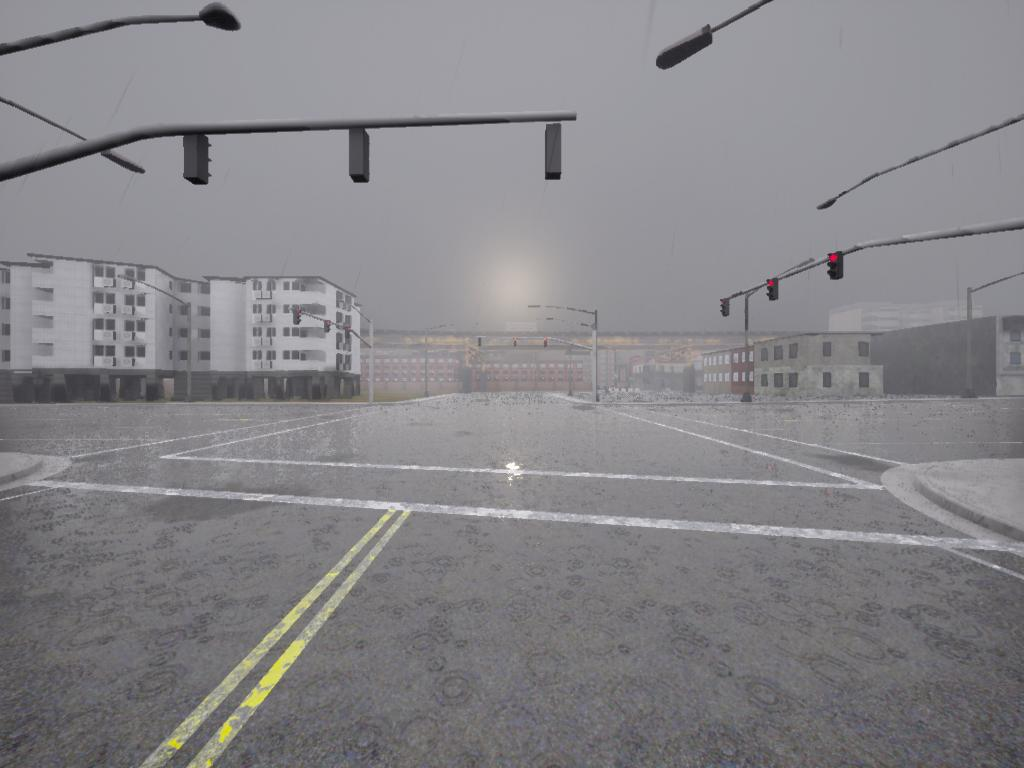traffic_light: (182, 134, 213, 189), (347, 129, 374, 189), (544, 125, 563, 182), (826, 255, 843, 282), (767, 279, 778, 302), (720, 302, 731, 320), (292, 309, 303, 327), (344, 326, 352, 342), (325, 320, 332, 336), (513, 337, 519, 352), (541, 338, 550, 347), (543, 340, 551, 349), (478, 337, 484, 349)
